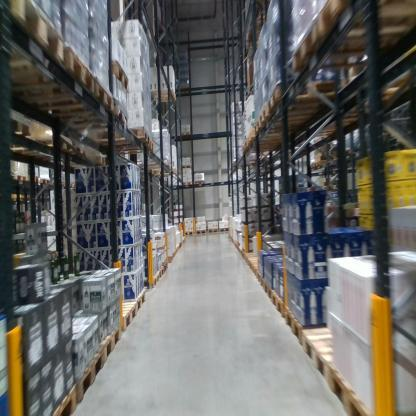pallets: (230, 236, 374, 415), (281, 0, 416, 131), (0, 0, 126, 133), (49, 288, 148, 414), (249, 66, 293, 144), (93, 121, 161, 155), (146, 242, 186, 292), (187, 227, 231, 239), (179, 162, 192, 170)
